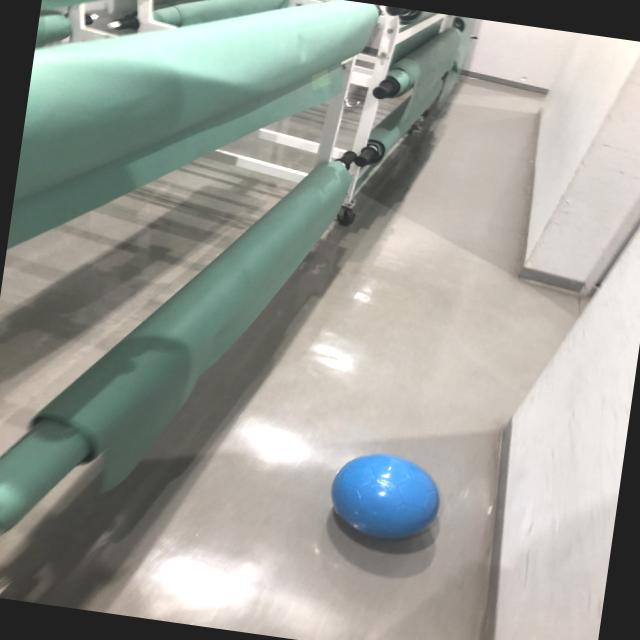blue_ball: (331, 446, 448, 546)
